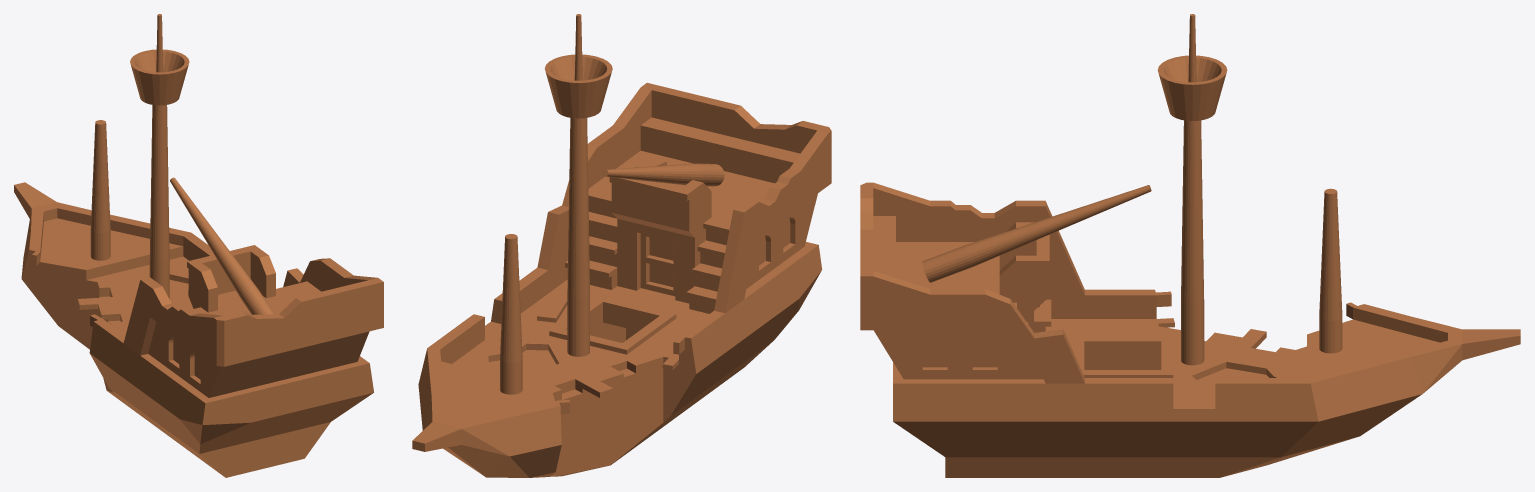
File: ship_wreck.glb
The picture shows the model from 3 angles, left to right: view 1: azimuth 30°, elevation 25°; view 2: azimuth 150°, elevation 25°; view 3: azimuth 270°, elevation 25°; orthographic projection. The views are drawn at different scales.
Parts seen in each view (by area): view 1: ship_wreck; view 2: ship_wreck; view 3: ship_wreck.
Part boxes in pixels (x1,y1,x2,y2): ship_wreck: (14,14,383,477); ship_wreck: (412,14,831,477); ship_wreck: (860,14,1520,477).
Bounding box in the file's own units: 28.5 × 59.21 × 80.49.
